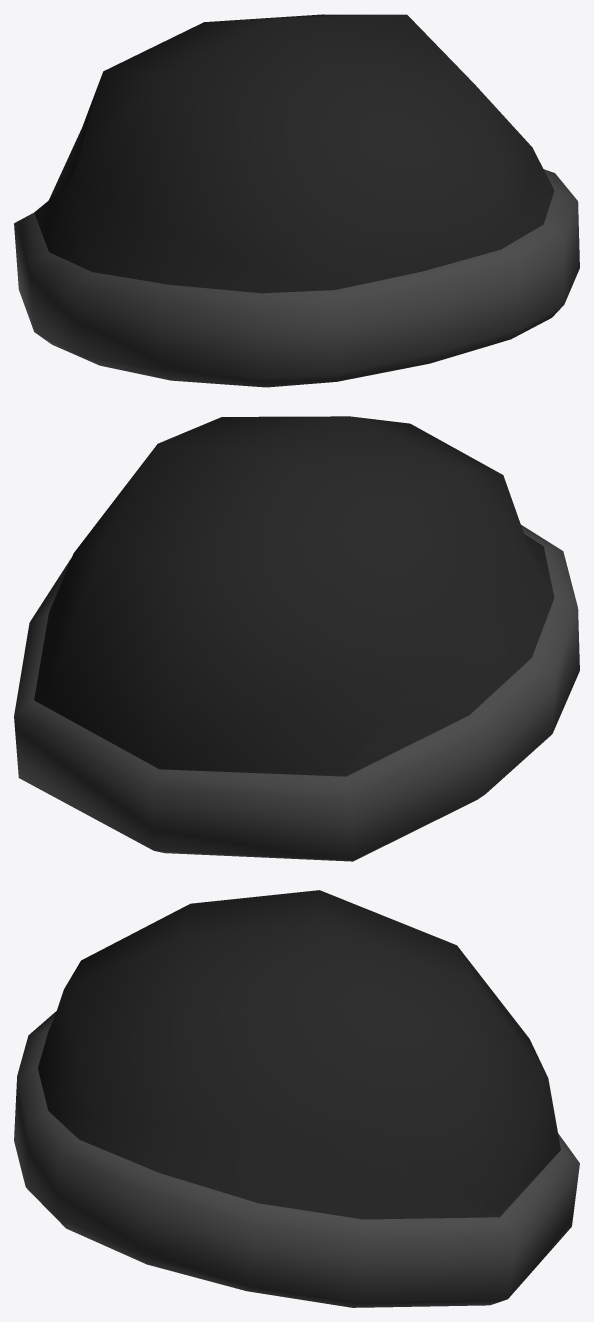
File: Hat_Beanie.fbx
3 views of the same model, one above another, from view 1: azimuth 30°, elevation 25°; view 2: azimuth 150°, elevation 25°; view 3: azimuth 270°, elevation 25° (orthographic).
Parts seen in each view (by area): view 1: Hat_Beanie; view 2: Hat_Beanie; view 3: Hat_Beanie.
Boxes of the visible parts, x1,y1,x2,y2 form: Hat_Beanie: (14, 14, 579, 387); Hat_Beanie: (14, 416, 579, 861); Hat_Beanie: (14, 890, 579, 1307).
Size of the model in its own units: 80.21 by 49.87 by 82.21.
